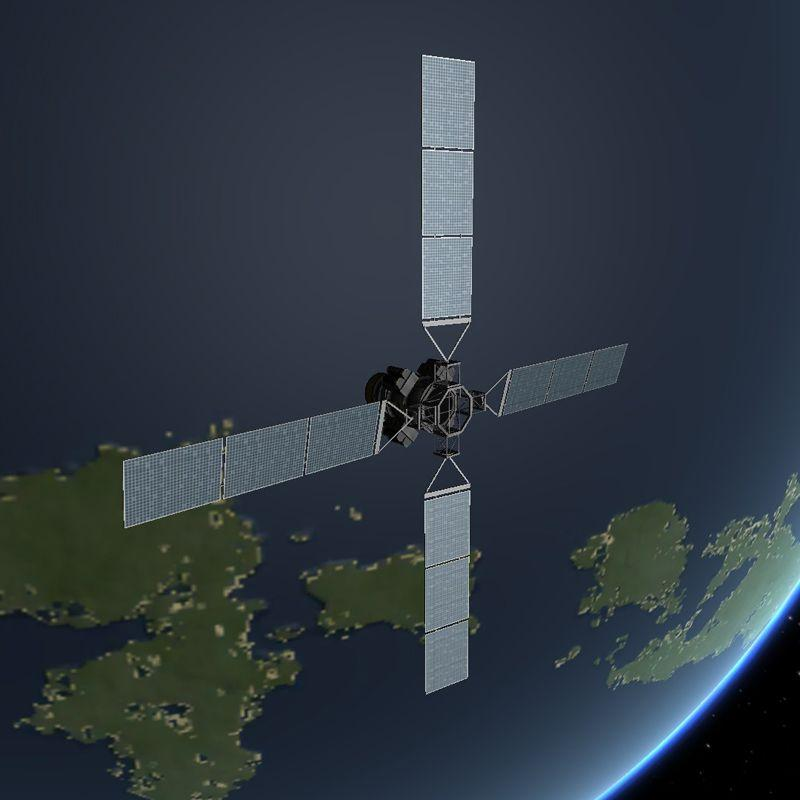body: (385, 356, 488, 458)
solar: (120, 398, 388, 532), (418, 50, 478, 325), (421, 486, 476, 698), (499, 339, 632, 419)
